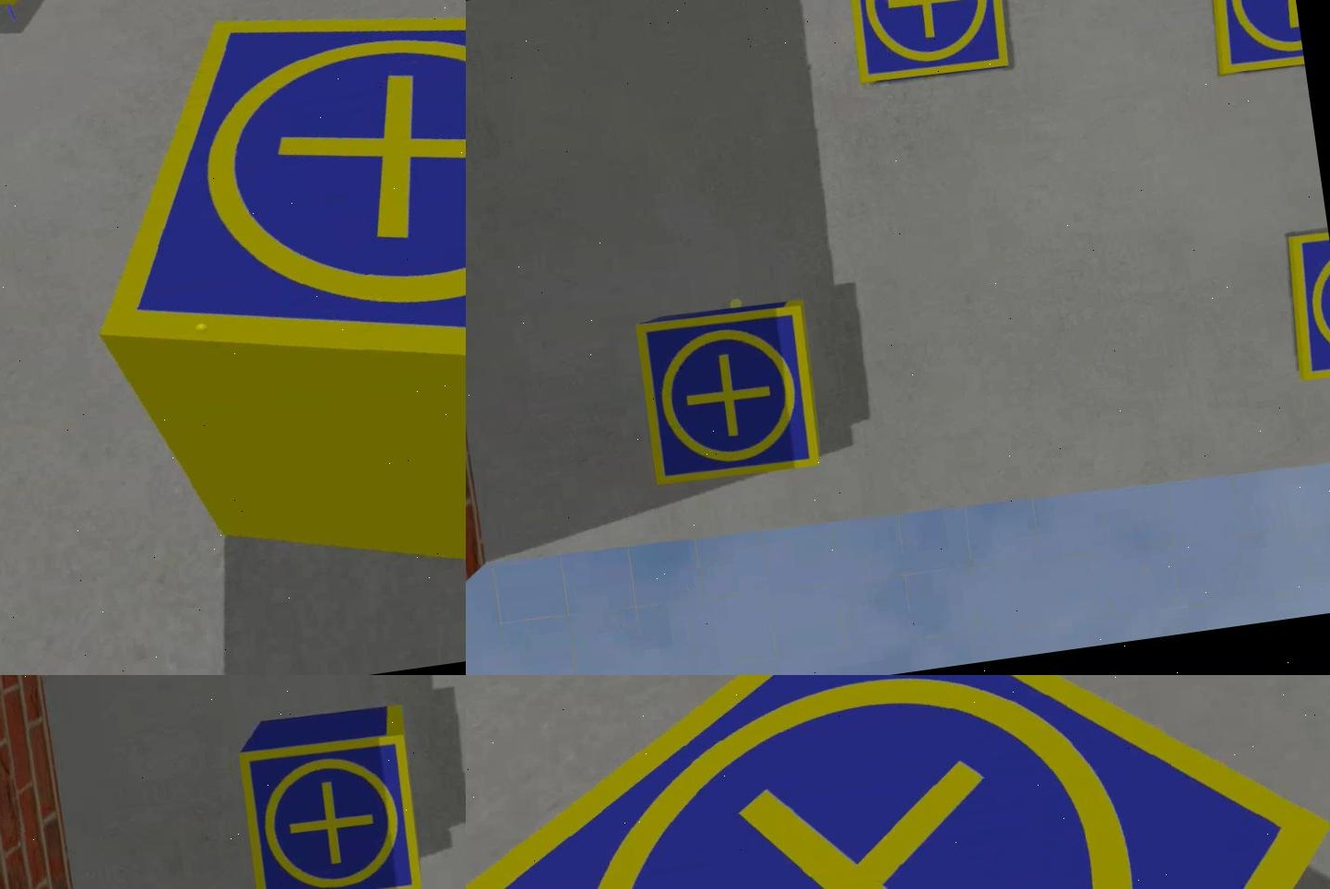small_base: (56, 1, 464, 457), (464, 676, 1328, 889), (631, 301, 826, 492), (235, 727, 426, 889), (842, 1, 1015, 85), (1196, 1, 1305, 79), (1278, 229, 1328, 385)
